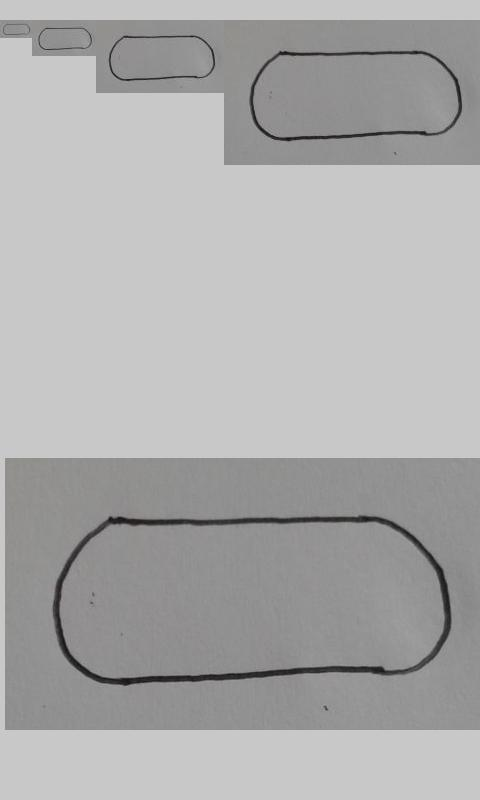chip: (50, 515, 452, 686), (249, 49, 464, 143), (108, 35, 216, 81), (38, 27, 92, 50), (3, 23, 31, 36)
